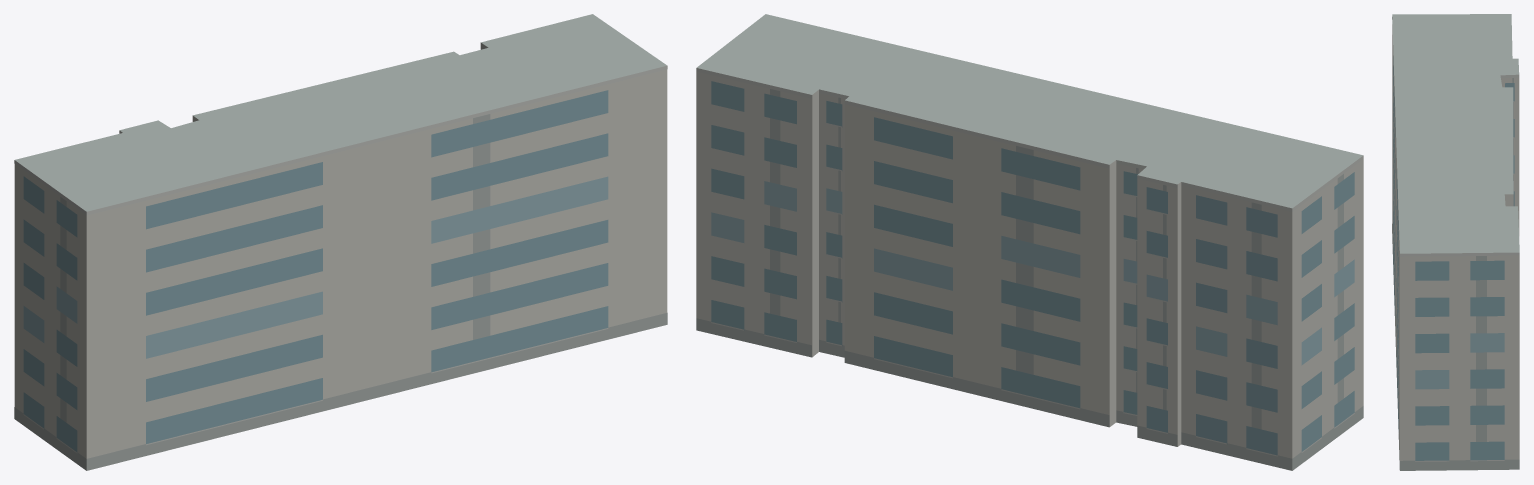
The model's file is survey-upis-32975910.glb.
The picture shows the model from 3 angles, left to right: view 1: azimuth 30°, elevation 25°; view 2: azimuth 150°, elevation 25°; view 3: azimuth 270°, elevation 25°; orthographic projection. The views are drawn at different scales.
Visible parts, largest first — view 1: survey-upis-32975910.tmp; view 2: survey-upis-32975910.tmp; view 3: survey-upis-32975910.tmp.
Part boxes in pixels (<box>): survey-upis-32975910.tmp: <box>14,14,667,470</box>; survey-upis-32975910.tmp: <box>696,14,1363,470</box>; survey-upis-32975910.tmp: <box>1392,14,1519,470</box>.
Bounding box in the file's own units: 40.98 × 17.3 × 9.23.
